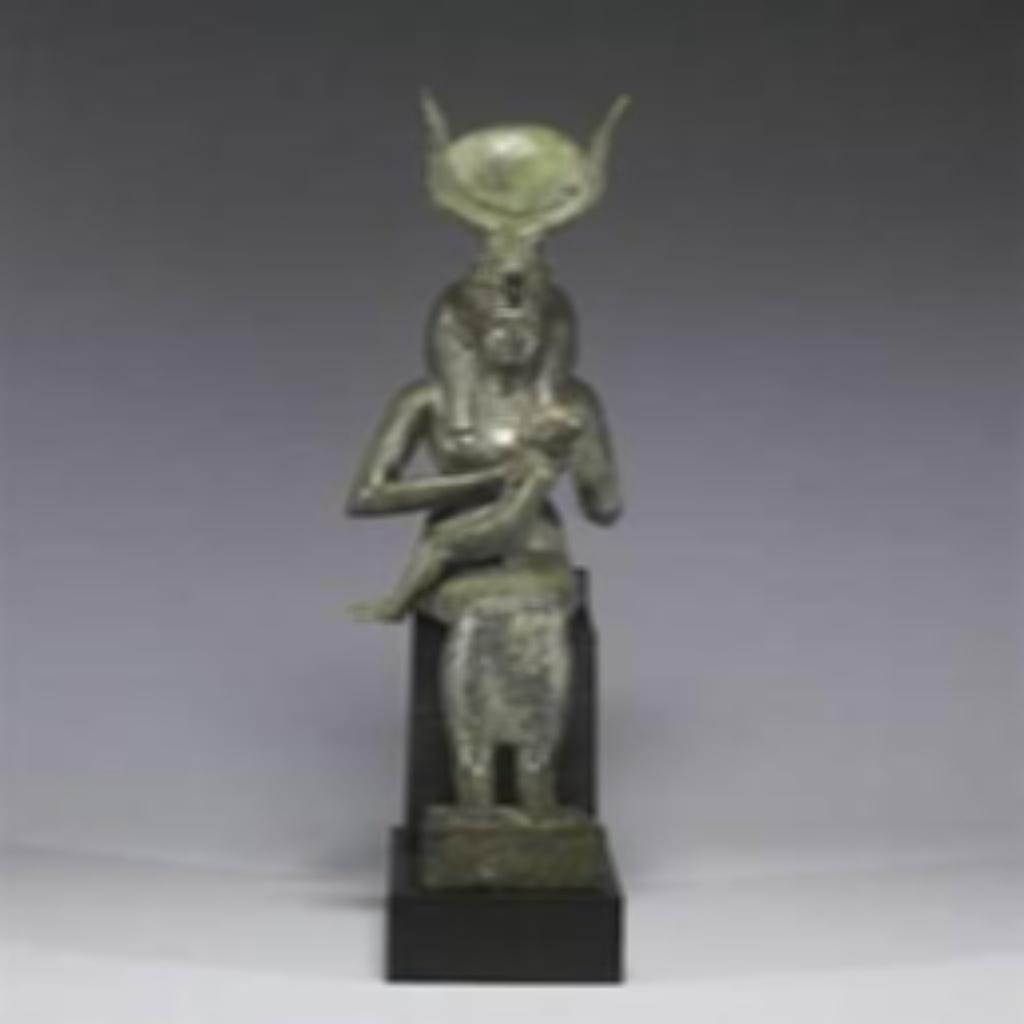Isis with her child: (329, 76, 647, 982)
